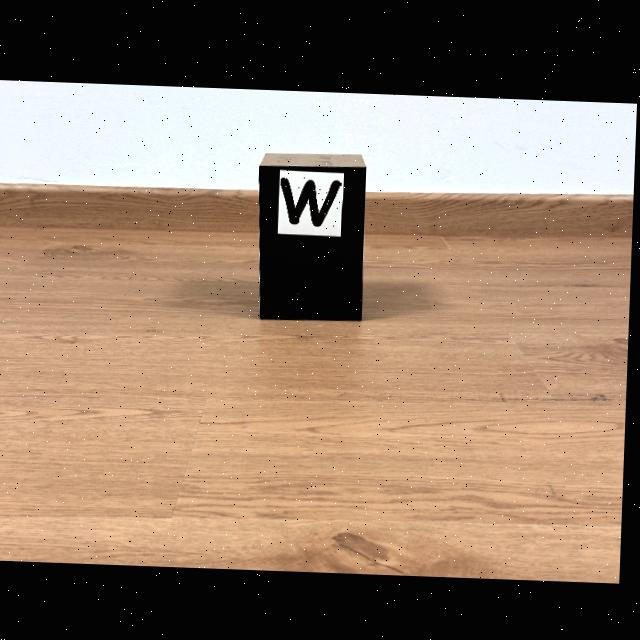W: (282, 175, 342, 225)
